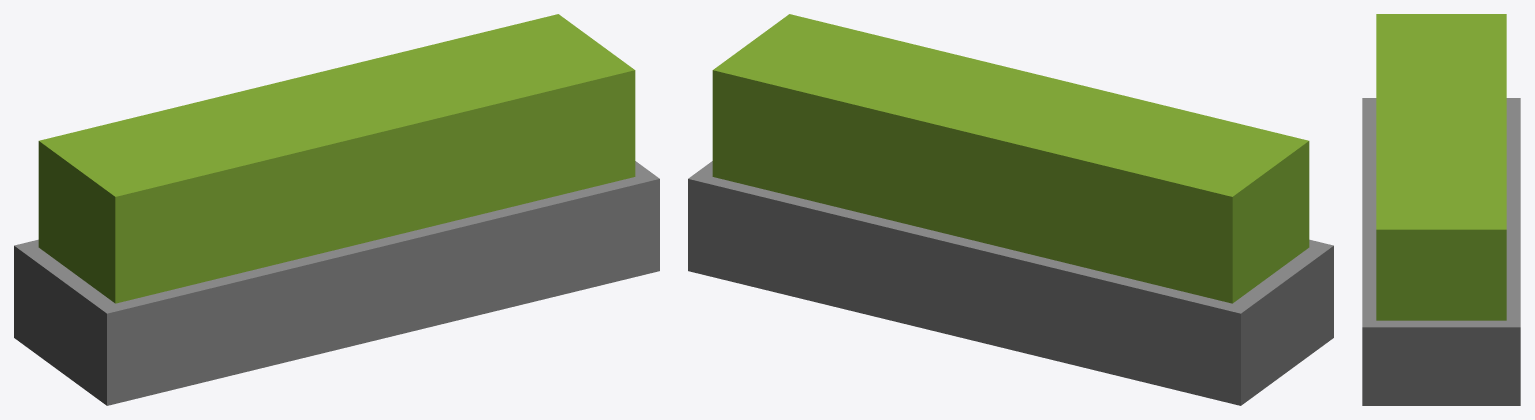
File: SM_Planter_01.fbx
The picture shows the model from 3 angles, left to right: view 1: azimuth 30°, elevation 25°; view 2: azimuth 150°, elevation 25°; view 3: azimuth 270°, elevation 25°; orthographic projection. The views are drawn at different scales.
Parts seen in each view (by area): view 1: SM_Planter_01; view 2: SM_Planter_01; view 3: SM_Planter_01.
Boxes of the visible parts, box(x1,y1,x2,y2) form: SM_Planter_01: box(14, 14, 659, 405); SM_Planter_01: box(688, 14, 1333, 405); SM_Planter_01: box(1362, 14, 1520, 405).
Size of the model in its own units: 3.12 by 1.07 by 0.909.
